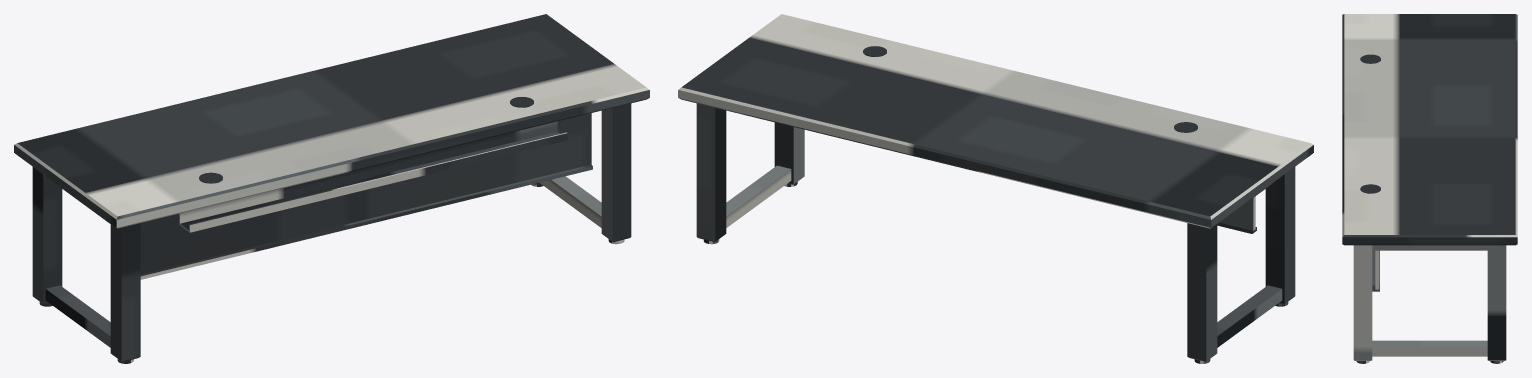
Rendered from center.obj.
3 renders of one model, left to right at view 1: azimuth 30°, elevation 25°; view 2: azimuth 150°, elevation 25°; view 3: azimuth 270°, elevation 25°, orthographic. The views are drawn at different scales.
Visible parts, largest first — view 1: desk_top, desk_modesty_panel, desk_legs, desk_cable_tray, desk_end_rails; view 2: desk_top, desk_legs, desk_end_rails, desk_modesty_panel; view 3: desk_top, desk_legs, desk_end_rails, desk_grommets, desk_modesty_panel.
Part boxes in pixels (bbox=[...]): desk_top: bbox=[14, 14, 649, 228]; desk_modesty_panel: bbox=[140, 113, 592, 279]; desk_legs: bbox=[32, 103, 631, 361]; desk_cable_tray: bbox=[179, 121, 567, 232]; desk_end_rails: bbox=[45, 176, 601, 347]; desk_top: bbox=[678, 14, 1313, 228]; desk_legs: bbox=[696, 103, 1295, 361]; desk_end_rails: bbox=[726, 165, 1282, 347]; desk_modesty_panel: bbox=[1217, 196, 1256, 233]; desk_top: bbox=[1342, 14, 1517, 245]; desk_legs: bbox=[1353, 245, 1506, 360]; desk_end_rails: bbox=[1372, 245, 1487, 356]; desk_grommets: bbox=[1360, 54, 1380, 193]; desk_modesty_panel: bbox=[1372, 250, 1379, 291].
Bounding box in the file's own units: 3 × 0.8475 × 1.
